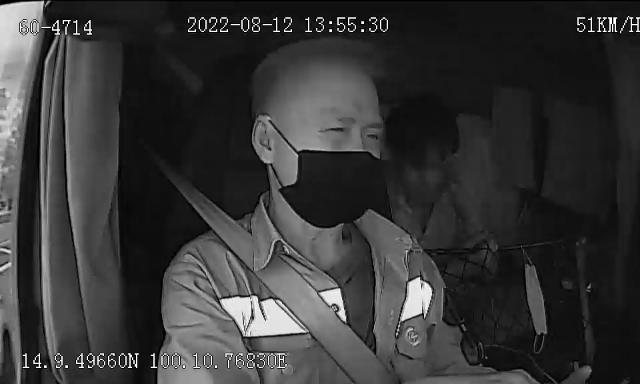Seatbelt: (181, 180, 389, 384)
